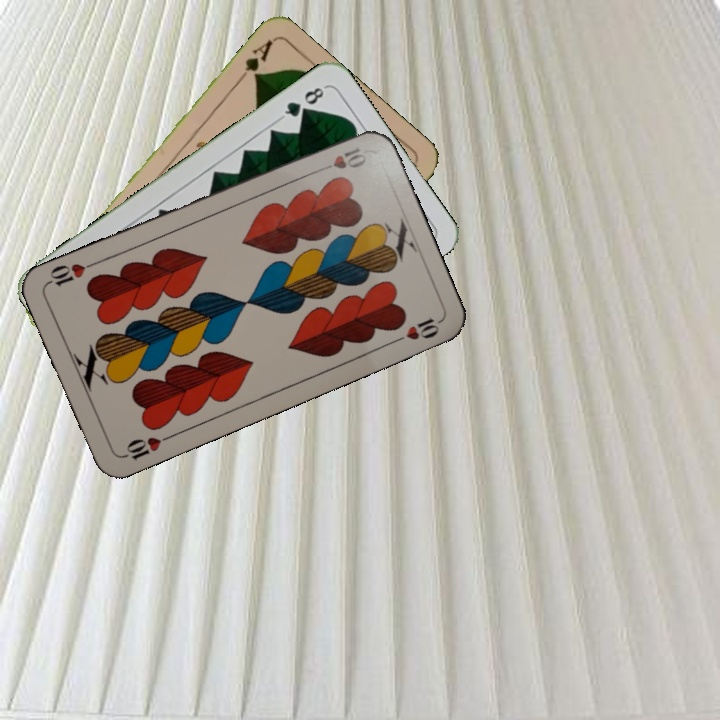G8: (277, 82, 329, 122)
GA: (233, 36, 276, 86)
H10: (118, 430, 174, 463), (313, 143, 369, 175)
